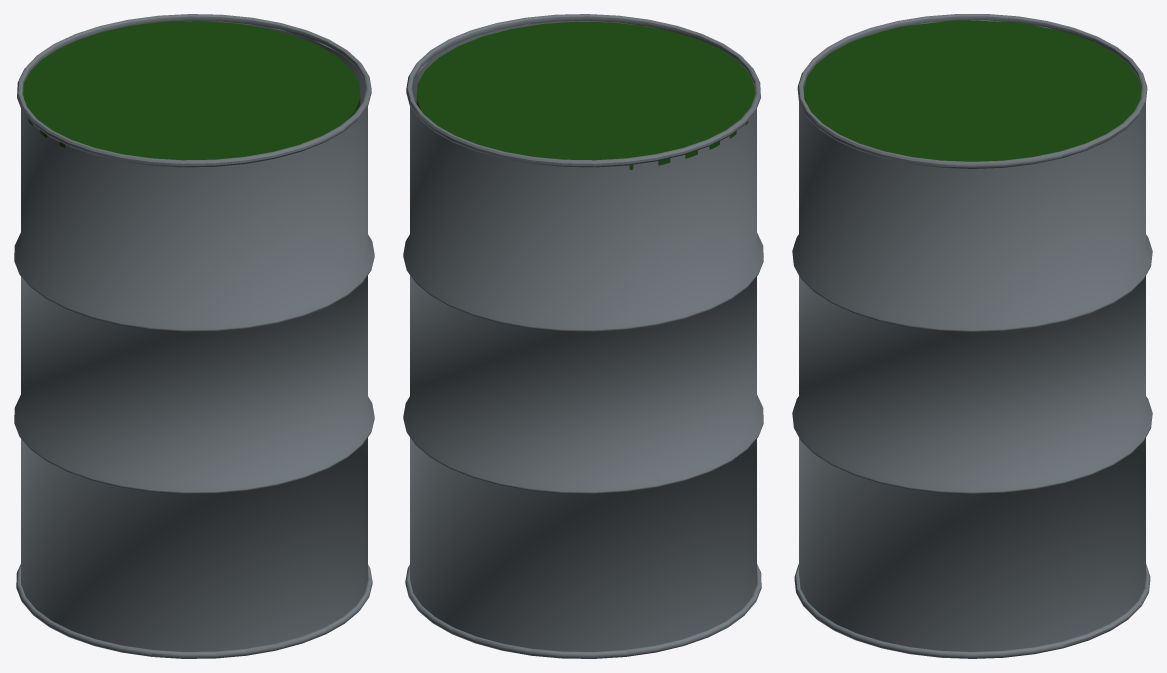
Rendered from SewerWasteBarrel.fbx.
The picture shows the model from 3 angles, left to right: view 1: azimuth 30°, elevation 25°; view 2: azimuth 150°, elevation 25°; view 3: azimuth 270°, elevation 25°; orthographic projection.
Visible parts, largest first — view 1: Cylinder001; view 2: Cylinder001; view 3: Cylinder001.
Part boxes in pixels (x1,y1,x2,y2): Cylinder001: [14, 14, 374, 658]; Cylinder001: [403, 14, 763, 658]; Cylinder001: [792, 14, 1152, 658].
Size of the model in its own units: 149 by 228 by 150.
